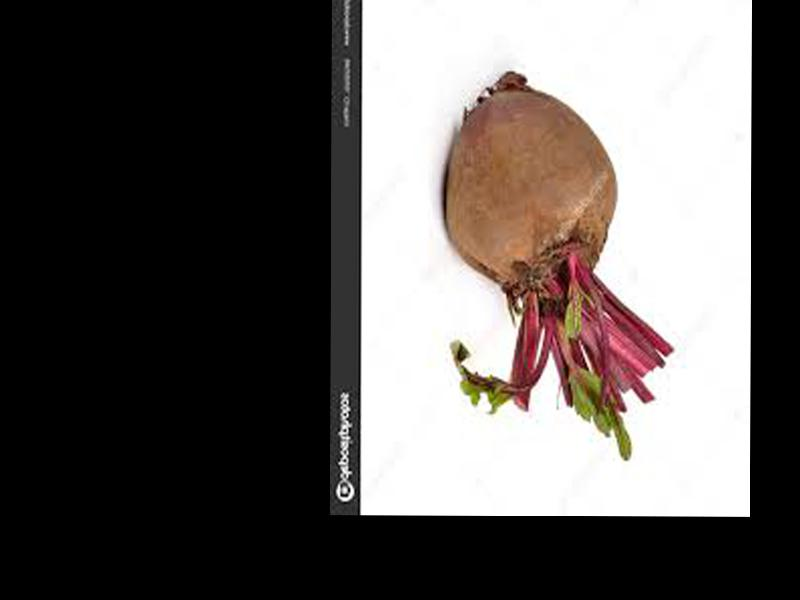Beet: (440, 70, 674, 460)
